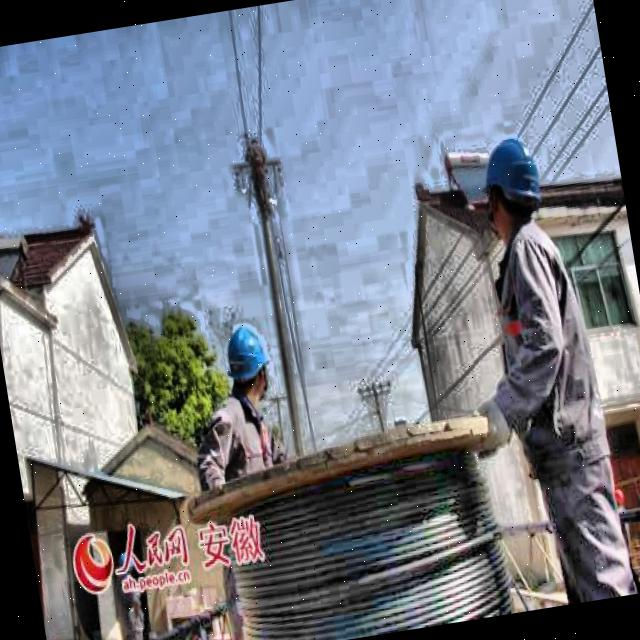helmet: (474, 127, 552, 245), (219, 314, 279, 412)
